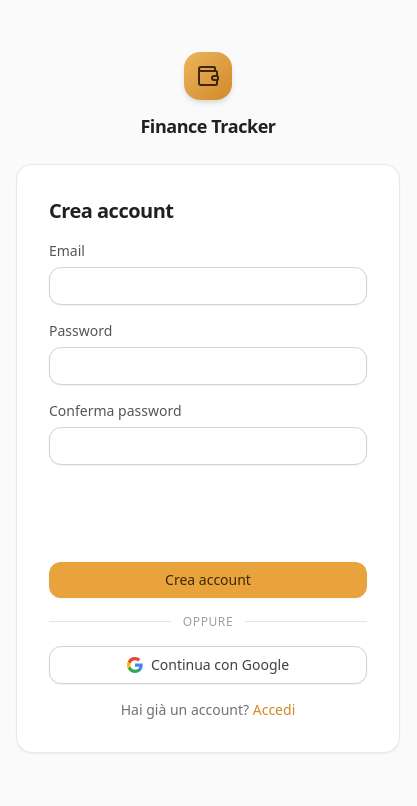
Test case: RegisterPage › shows error for password shorter than 8 characters
The image size is (417, 806).
In the field labelled "Email": (208, 286) top-left (49, 266), bottom-right (367, 304), type "user@example.com"
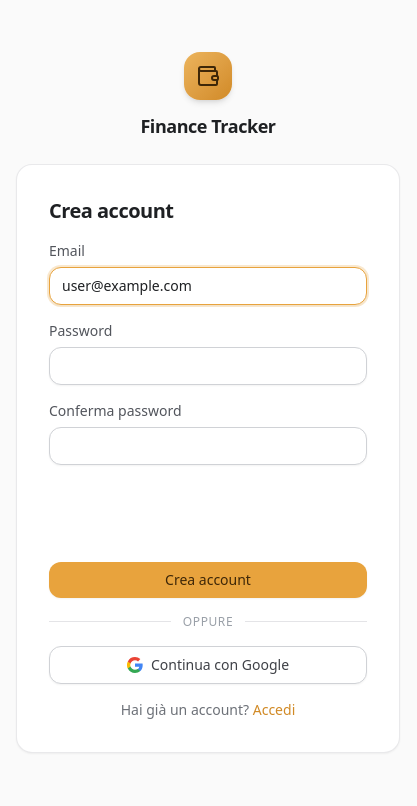
In the password field labelled "Password": (208, 366) top-left (49, 346), bottom-right (367, 384), type "short"
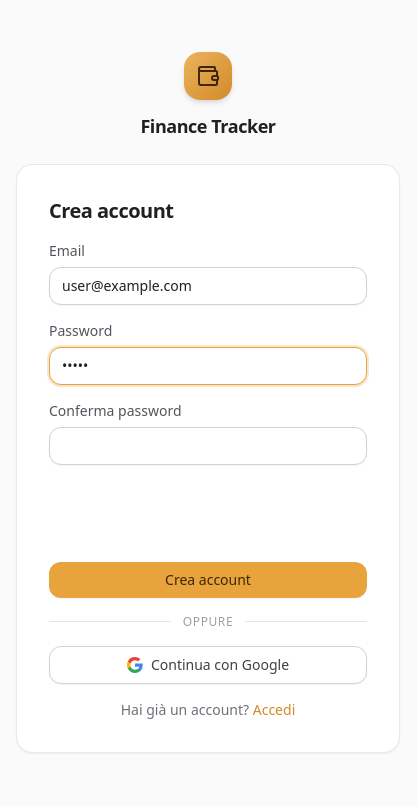
In the password field labelled "Conferma password": (208, 446) top-left (49, 426), bottom-right (367, 464), type "short"
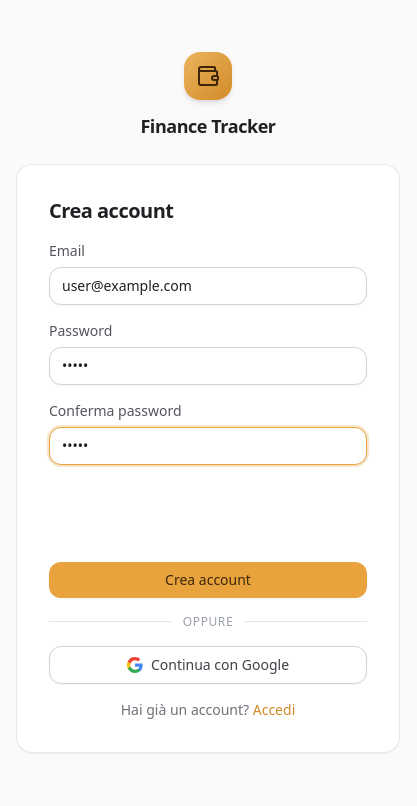
Click the button "Crea account": (208, 580) top-left (49, 562), bottom-right (367, 598)
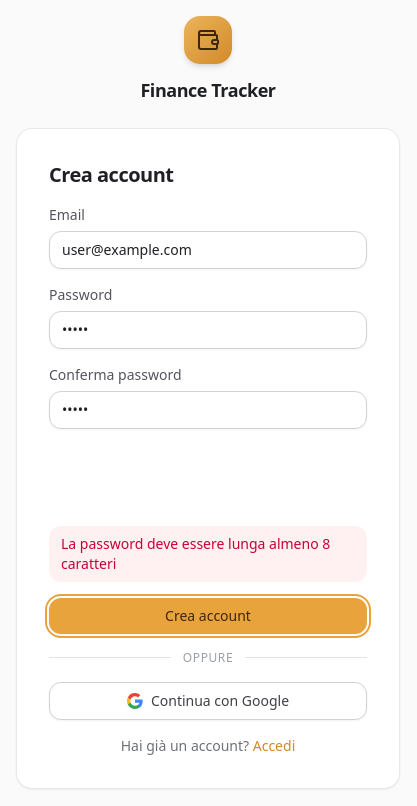
Result: the text "La password deve essere lunga almeno 8 caratteri" is shown at top-left (49, 526), bottom-right (367, 582)
